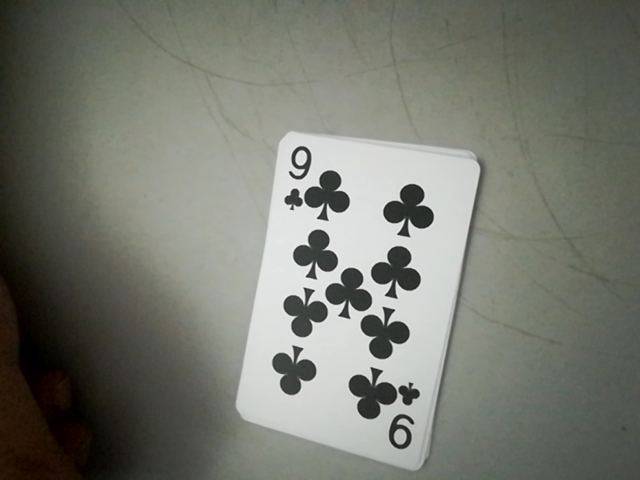mh 9: (388, 376, 426, 460), (274, 135, 308, 217)
